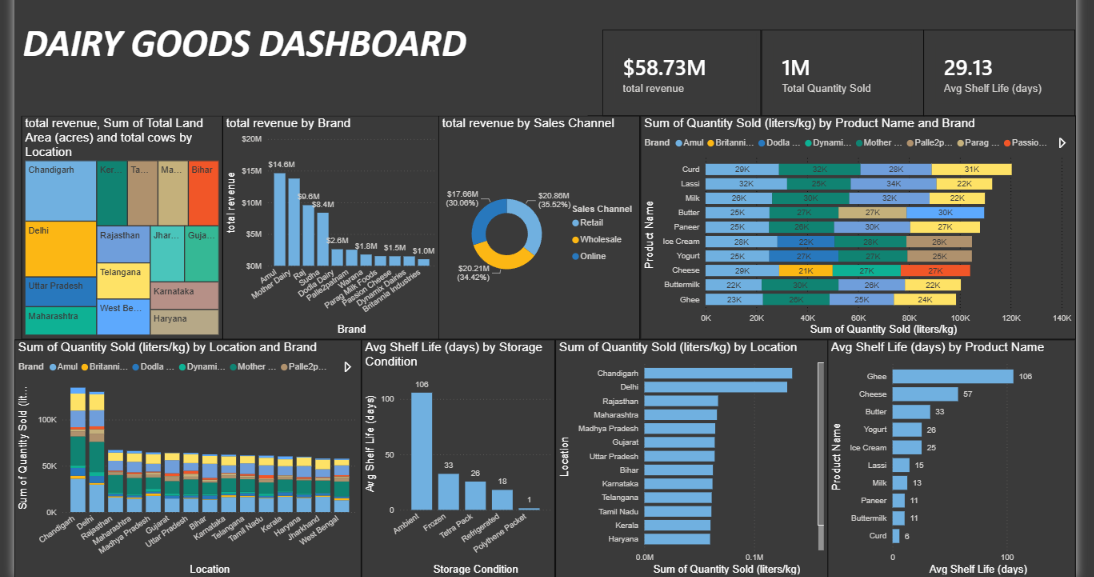

What the dashboard file says about the page in this screenshot:
{"tool":"powerbi","page":{"name":"Page 1","canvas":[1600,900],"ordinal":0},"visuals":[{"type":"treemap","fields":{"Group":["dairy good.Location"],"Values":["dairy good.total revenue"]},"box":[10.6,202.1,304,337.4],"z":0},{"type":"columnChart","fields":{"Category":["dairy good.Brand"],"Y":["dairy good.total revenue"]},"box":[313.7,202.1,327.4,337.4],"z":1000},{"type":"barChart","fields":{"Category":["dairy good.Product Name"],"Y":["Sum(dairy good.Quantity Sold (liters/kg))"],"Series":["dairy good.Brand"]},"box":[943.8,202.1,656.5,337.4],"z":2000},{"type":"clusteredColumnChart","fields":{"Category":["dairy good.Storage Condition"],"Y":["dairy good.Avg Shelf Life (days)"]},"box":[522.9,539.6,292.3,360.8],"z":3000},{"type":"columnChart","fields":{"Category":["dairy good.Location"],"Y":["Sum(dairy good.Quantity Sold (liters/kg))"],"Series":["dairy good.Brand"]},"box":[0,539.6,522.9,360.8],"z":4000},{"type":"barChart","fields":{"Category":["dairy good.Product Name"],"Y":["dairy good.Avg Shelf Life (days)"]},"box":[1226.1,539.6,374.2,360.8],"z":5000},{"type":"donutChart","fields":{"Category":["dairy good.Sales Channel"],"Y":["dairy good.total revenue"]},"box":[639.8,202.1,304,337.4],"z":6000},{"type":"clusteredBarChart","fields":{"Category":["dairy good.Location"],"Y":["Sum(dairy good.Quantity Sold (liters/kg))"]},"box":[815.2,539.6,410.9,360.8],"z":7000},{"type":"cardVisual","fields":{"Data":["dairy good.total revenue"]},"box":[887,71.8,238.9,130.3],"z":8000},{"type":"cardVisual","fields":{"Data":["dairy good.Total Quantity Sold"]},"box":[1125.9,71.8,245.6,130.3],"z":9000},{"type":"cardVisual","fields":{"Data":["dairy good.Avg Shelf Life (days)"]},"box":[1371.5,71.8,228.9,130.3],"z":10000},{"type":"textbox","box":[7.5,51.3,856.6,150.8],"z":11000}]}

Visuals, with their boxes in screenshot pixels (x1, y1, x2, y2):
treemap - dairy good.Location x dairy good.total revenue: (left=27, top=121, right=227, bottom=343)
columnChart - dairy good.Brand x dairy good.total revenue: (left=226, top=121, right=441, bottom=343)
barChart - dairy good.Product Name x Sum(dairy good.Quantity Sold (liters/kg)): (left=640, top=121, right=1071, bottom=343)
clusteredColumnChart - dairy good.Storage Condition x dairy good.Avg Shelf Life (days): (left=363, top=343, right=556, bottom=576)
columnChart - dairy good.Location x Sum(dairy good.Quantity Sold (liters/kg)): (left=20, top=343, right=363, bottom=576)
barChart - dairy good.Product Name x dairy good.Avg Shelf Life (days): (left=825, top=343, right=1071, bottom=576)
donutChart - dairy good.Sales Channel x dairy good.total revenue: (left=440, top=121, right=640, bottom=343)
clusteredBarChart - dairy good.Location x Sum(dairy good.Quantity Sold (liters/kg)): (left=556, top=343, right=825, bottom=576)
cardVisual - dairy good.total revenue: (left=603, top=36, right=760, bottom=121)
cardVisual - dairy good.Total Quantity Sold: (left=760, top=36, right=921, bottom=121)
cardVisual - dairy good.Avg Shelf Life (days): (left=921, top=36, right=1071, bottom=121)
textbox: (left=25, top=22, right=588, bottom=121)
